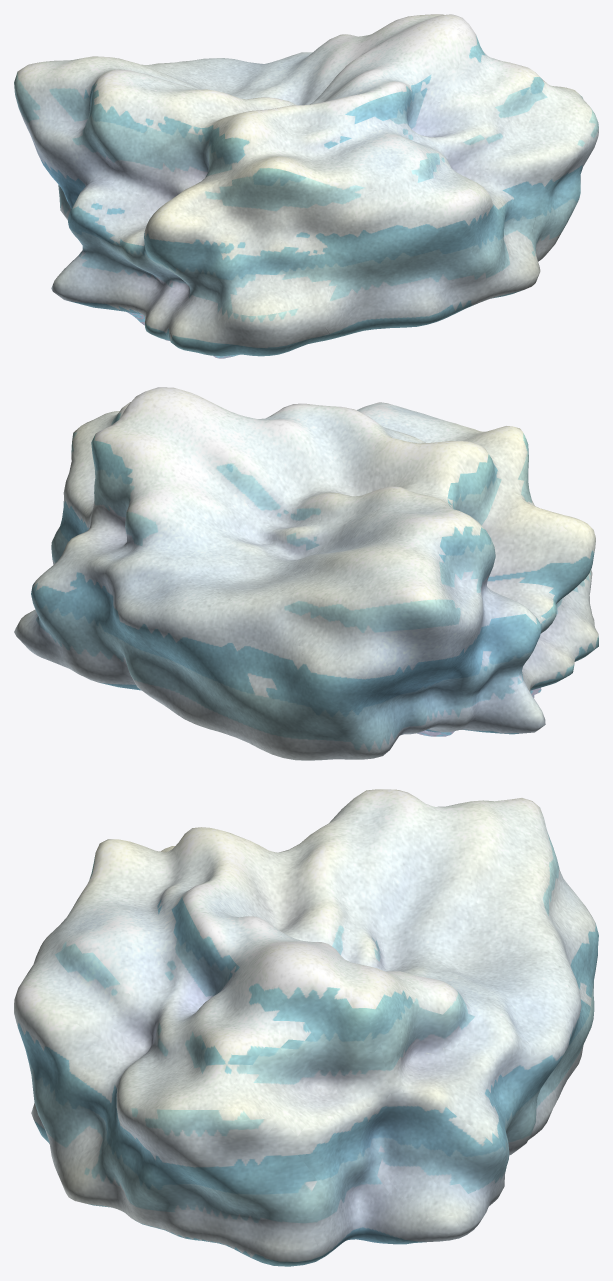
Rendered from WM_RockSnow_A.fbx.
3 renders of one model, top to bottom at view 1: azimuth 30°, elevation 25°; view 2: azimuth 150°, elevation 25°; view 3: azimuth 270°, elevation 25°, orthographic. The views are drawn at different scales.
Parts seen in each view (by area): view 1: WM_RockSnow_A_LOD0; view 2: WM_RockSnow_A_LOD0; view 3: WM_RockSnow_A_LOD0.
Boxes of the visible parts, <box> form: WM_RockSnow_A_LOD0: <box>14,14,598,358</box>; WM_RockSnow_A_LOD0: <box>14,387,598,760</box>; WM_RockSnow_A_LOD0: <box>14,789,598,1266</box>.
Size of what is drawn, in the model's own units: 1.86 by 0.8195 by 1.58.
